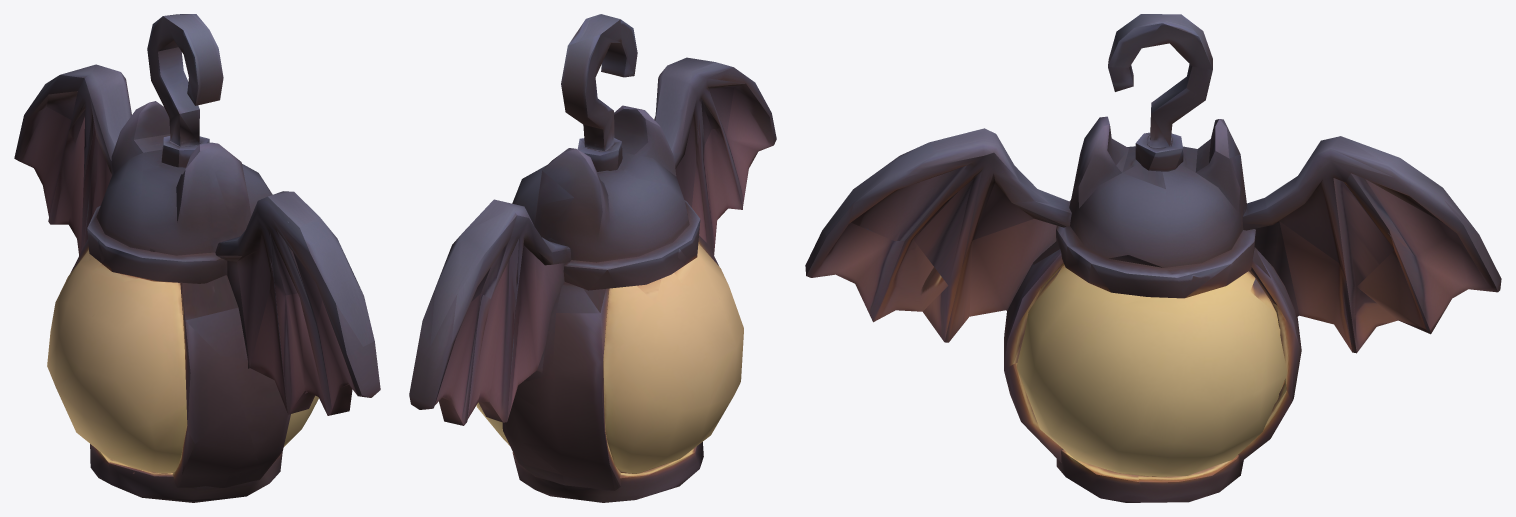
Rendered from H6_BatLantern_LOD2.fbx.
3 renders of one model, left to right at view 1: azimuth 30°, elevation 25°; view 2: azimuth 150°, elevation 25°; view 3: azimuth 270°, elevation 25°, orthographic.
Parts seen in each view (by area): view 1: H6_BatLantern_LOD2; view 2: H6_BatLantern_LOD2; view 3: H6_BatLantern_LOD2.
Boxes of the visible parts, x1,y1,x2,y2 form: H6_BatLantern_LOD2: (14,14,380,502); H6_BatLantern_LOD2: (409,14,776,502); H6_BatLantern_LOD2: (805,14,1501,502).
Bounding box in the file's own units: 0.2783 × 0.5003 × 0.6882.
1 material, 1 textured.
